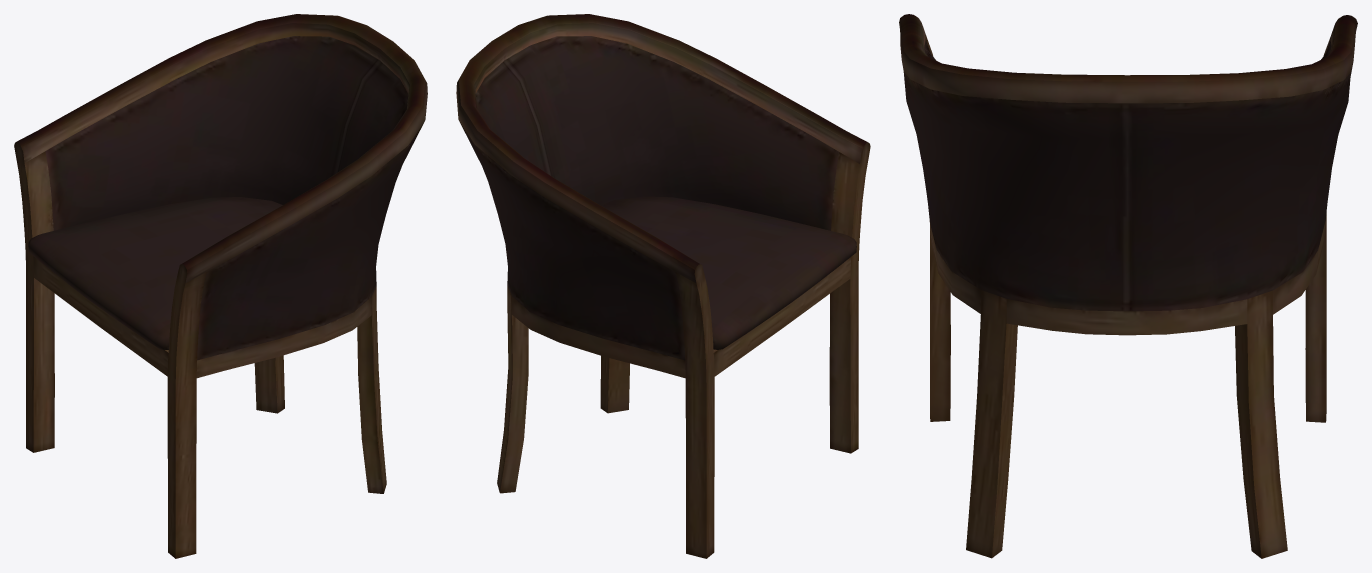
The model's file is fauteuil-cuir.glb.
3 views of the same model, side by side, from view 1: azimuth 30°, elevation 25°; view 2: azimuth 150°, elevation 25°; view 3: azimuth 270°, elevation 25° (orthographic). The views are drawn at different scales.
Visible parts, largest first — view 1: re_chair; view 2: re_chair; view 3: re_chair.
Boxes of the visible parts, x1,y1,x2,y2 form: re_chair: (14,14,427,558); re_chair: (456,14,870,558); re_chair: (899,14,1357,558).
Size of the model in its own units: 0.6296 by 0.7702 by 0.6201.
1 material, 1 textured.
